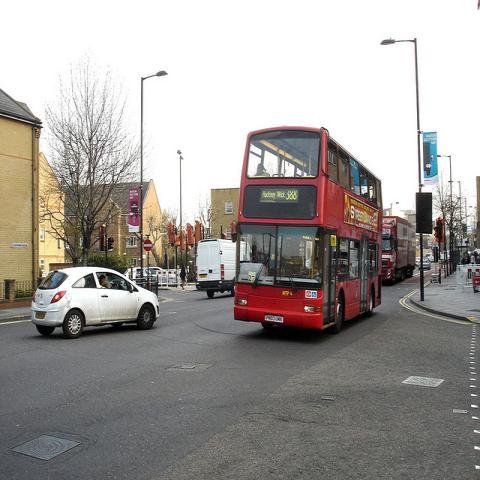bus: (232, 131, 382, 331)
car: (28, 262, 162, 339), (143, 266, 163, 277), (123, 267, 136, 279), (417, 260, 430, 271), (440, 250, 450, 260), (425, 253, 434, 263)
truck: (194, 238, 250, 302), (382, 213, 416, 285)
